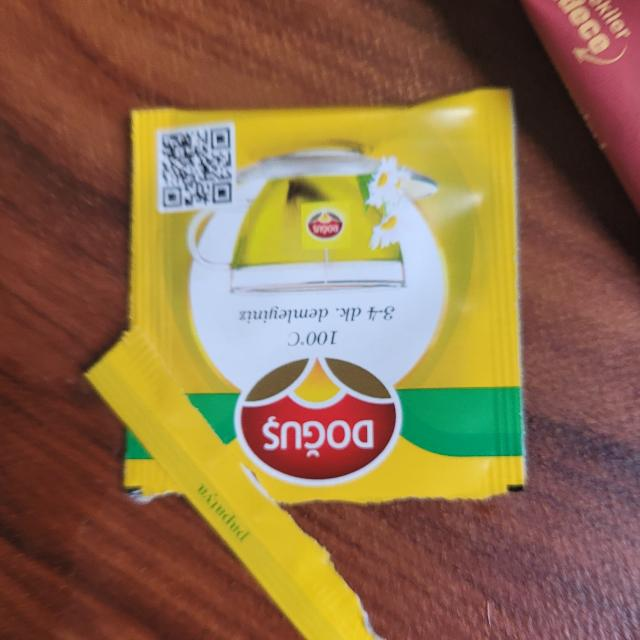Kagit: (118, 85, 525, 501)
